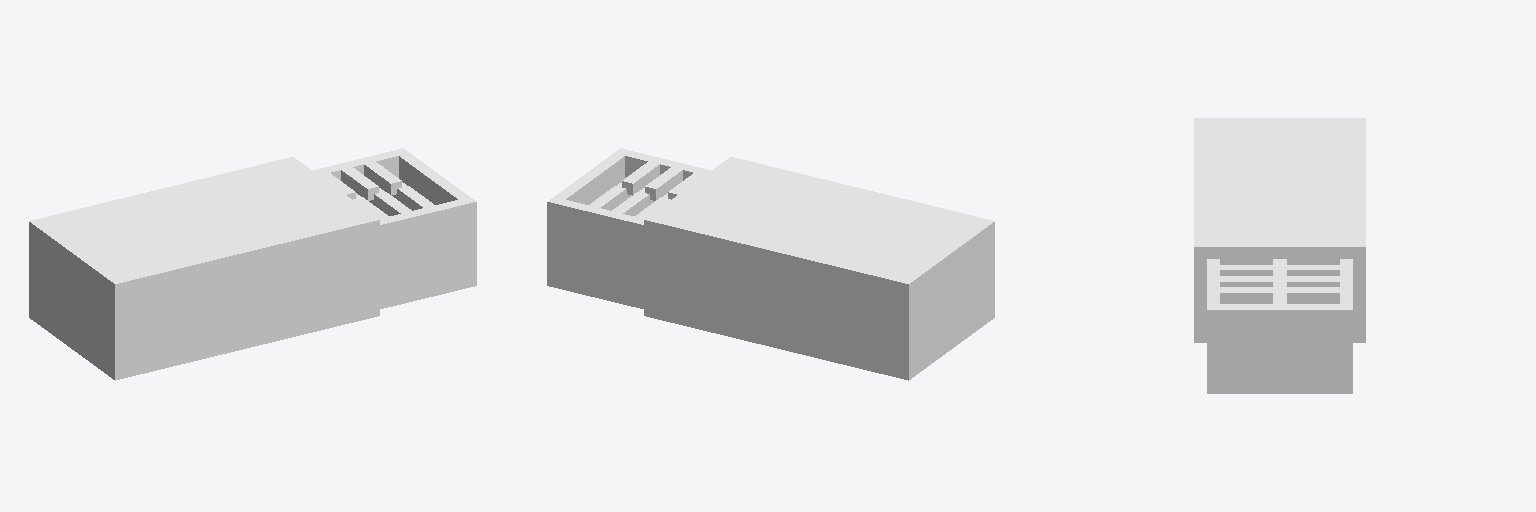
File: 50mBxA.obj
The picture shows the model from 3 angles: view 1: azimuth 30°, elevation 25°; view 2: azimuth 150°, elevation 25°; view 3: azimuth 270°, elevation 25°; orthographic projection.
Visible parts, largest first — view 1: object 1; view 2: object 1; view 3: object 1.
Part boxes in pixels (x1,y1,x2,y2): object 1: (29, 148, 476, 380); object 1: (547, 148, 994, 380); object 1: (1194, 118, 1365, 393).
Bounding box in the file's own units: 3.2 × 0.8 × 1.3.